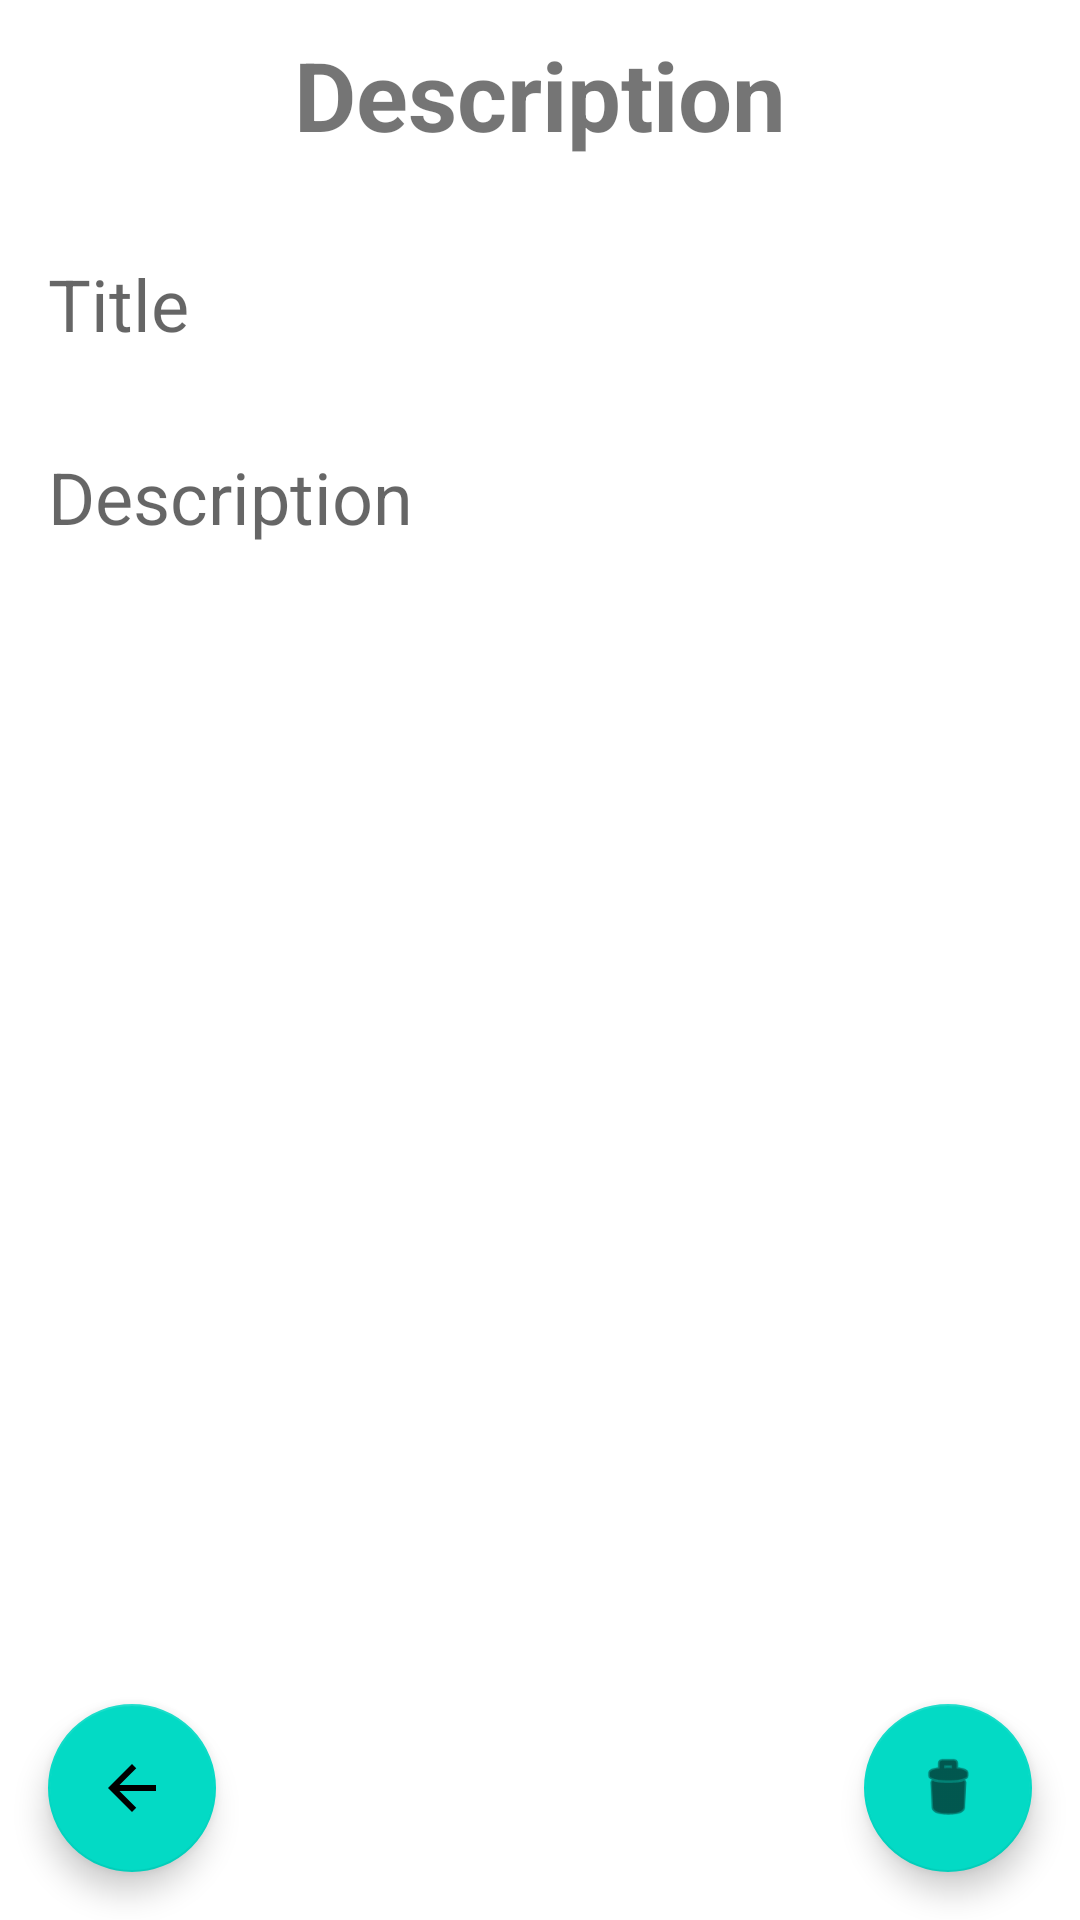

Where to tap for icons on this 1080x1920 app screen, as (x,y):
back: (132,1788)
delete: (948,1788)
